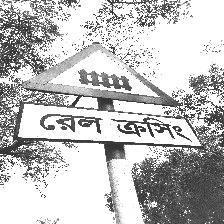Rail-crossing: (7, 43, 201, 154)
